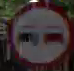No overtake: (7, 0, 73, 70)
